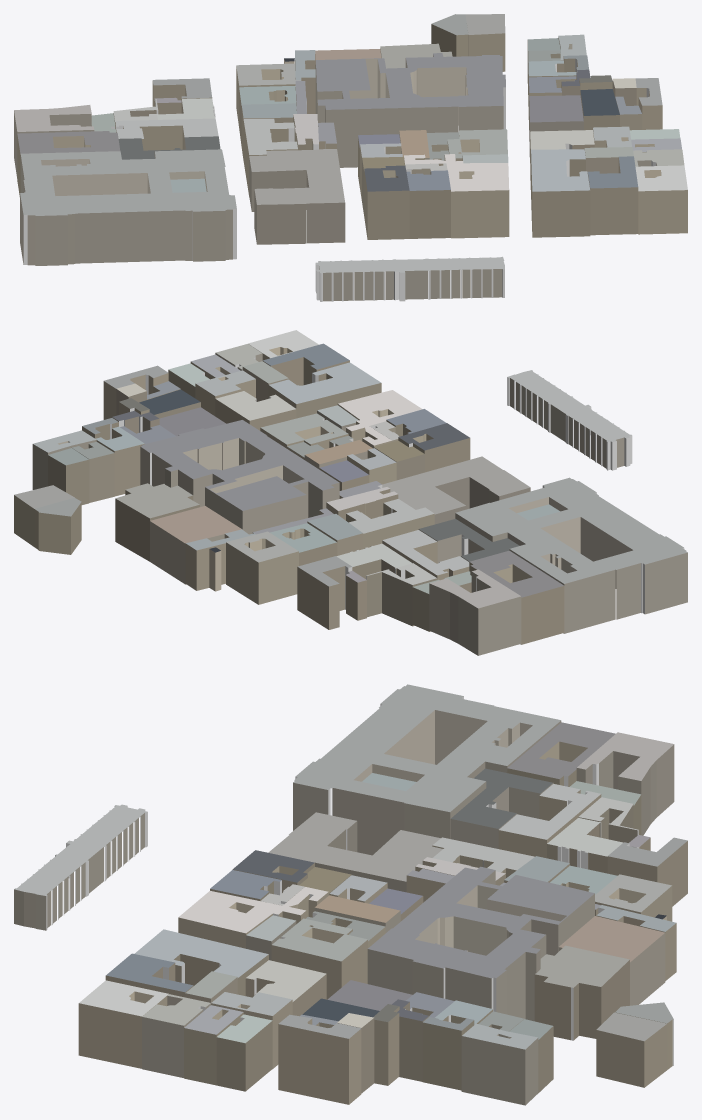
3 renders of one model, top to bottom at view 1: azimuth 30°, elevation 25°; view 2: azimuth 150°, elevation 25°; view 3: azimuth 270°, elevation 25°, orthographic. The views are drawn at different scales.
Parts seen in each view (by area): view 1: tuile; view 2: tuile; view 3: tuile.
Boxes of the visible parts, bbox=[...] form: tuile: bbox=[14, 14, 687, 301]; tuile: bbox=[14, 330, 687, 655]; tuile: bbox=[14, 684, 687, 1105].
Size of the model in its own units: 310 by 29.67 by 245.
